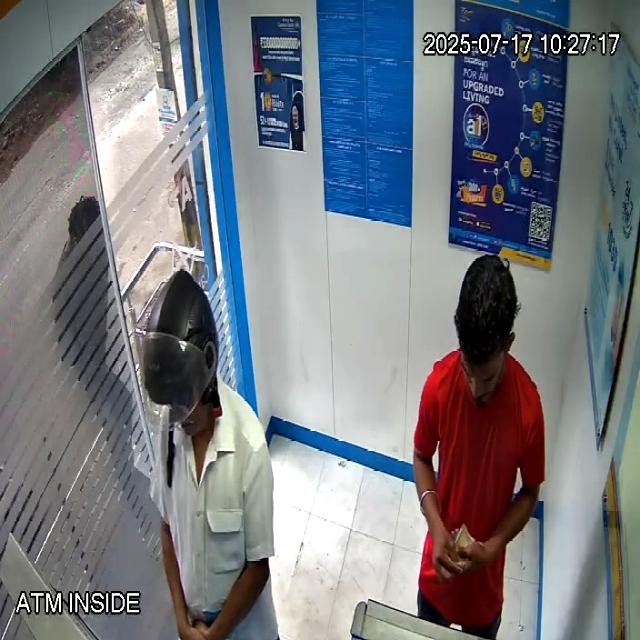helmet: (142, 267, 222, 438)
no_helmet: (454, 254, 520, 407)
